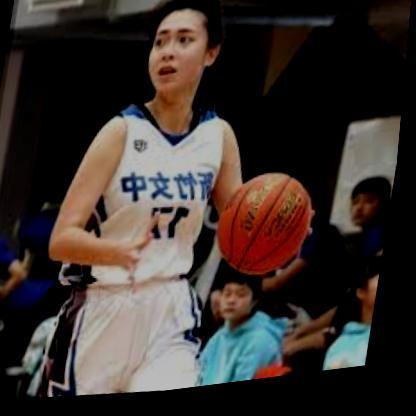basketball: (215, 172, 322, 290)
